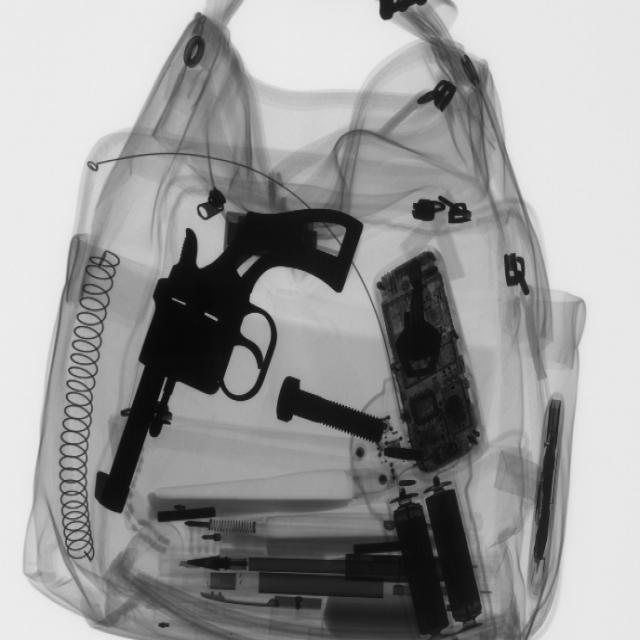GUN: (90, 202, 366, 513)
